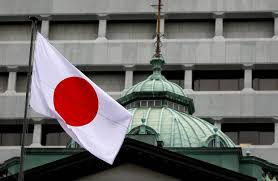Japanese Flag: (23, 28, 135, 169)
